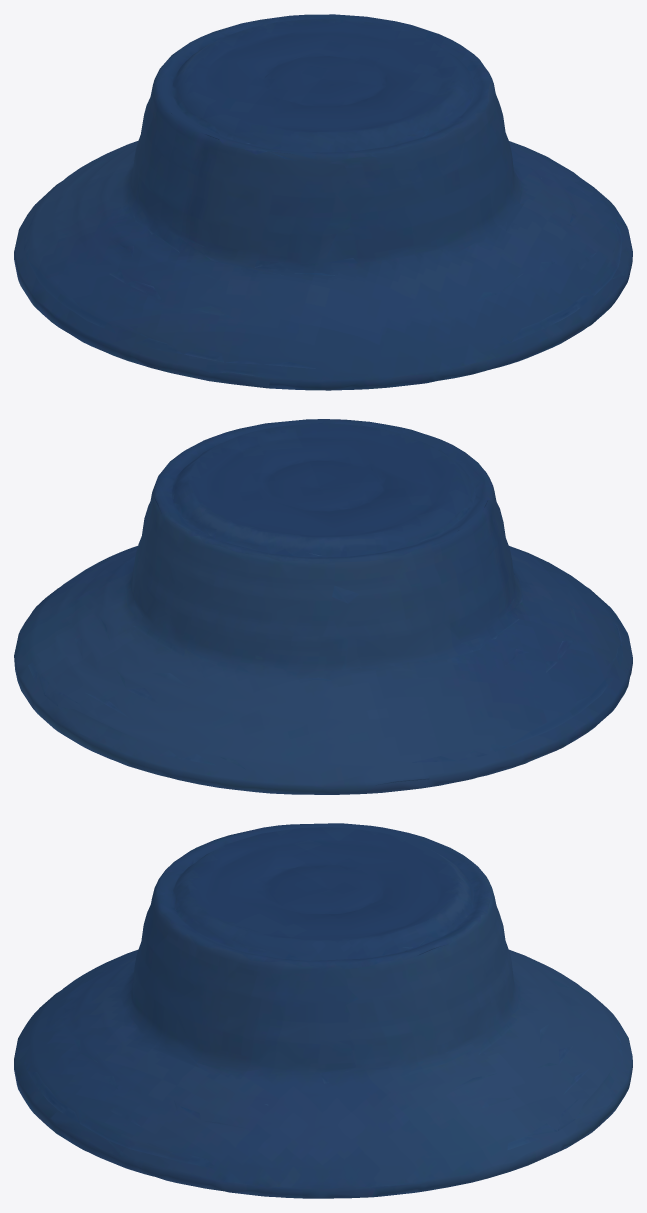
The model's file is blue-striped-bucket-hat.glb.
The picture shows the model from 3 angles, top to bottom: view 1: azimuth 30°, elevation 25°; view 2: azimuth 150°, elevation 25°; view 3: azimuth 270°, elevation 25°; orthographic projection.
Visible parts, largest first — view 1: Mesh1.0; view 2: Mesh1.0; view 3: Mesh1.0.
Boxes of the visible parts, x1=… form: Mesh1.0: x1=14, y1=14, x2=632, y2=390; Mesh1.0: x1=14, y1=419, x2=632, y2=794; Mesh1.0: x1=14, y1=823, x2=632, y2=1198.
Size of the model in its own units: 1.9 by 0.6236 by 1.9.
1 material, 1 textured.
